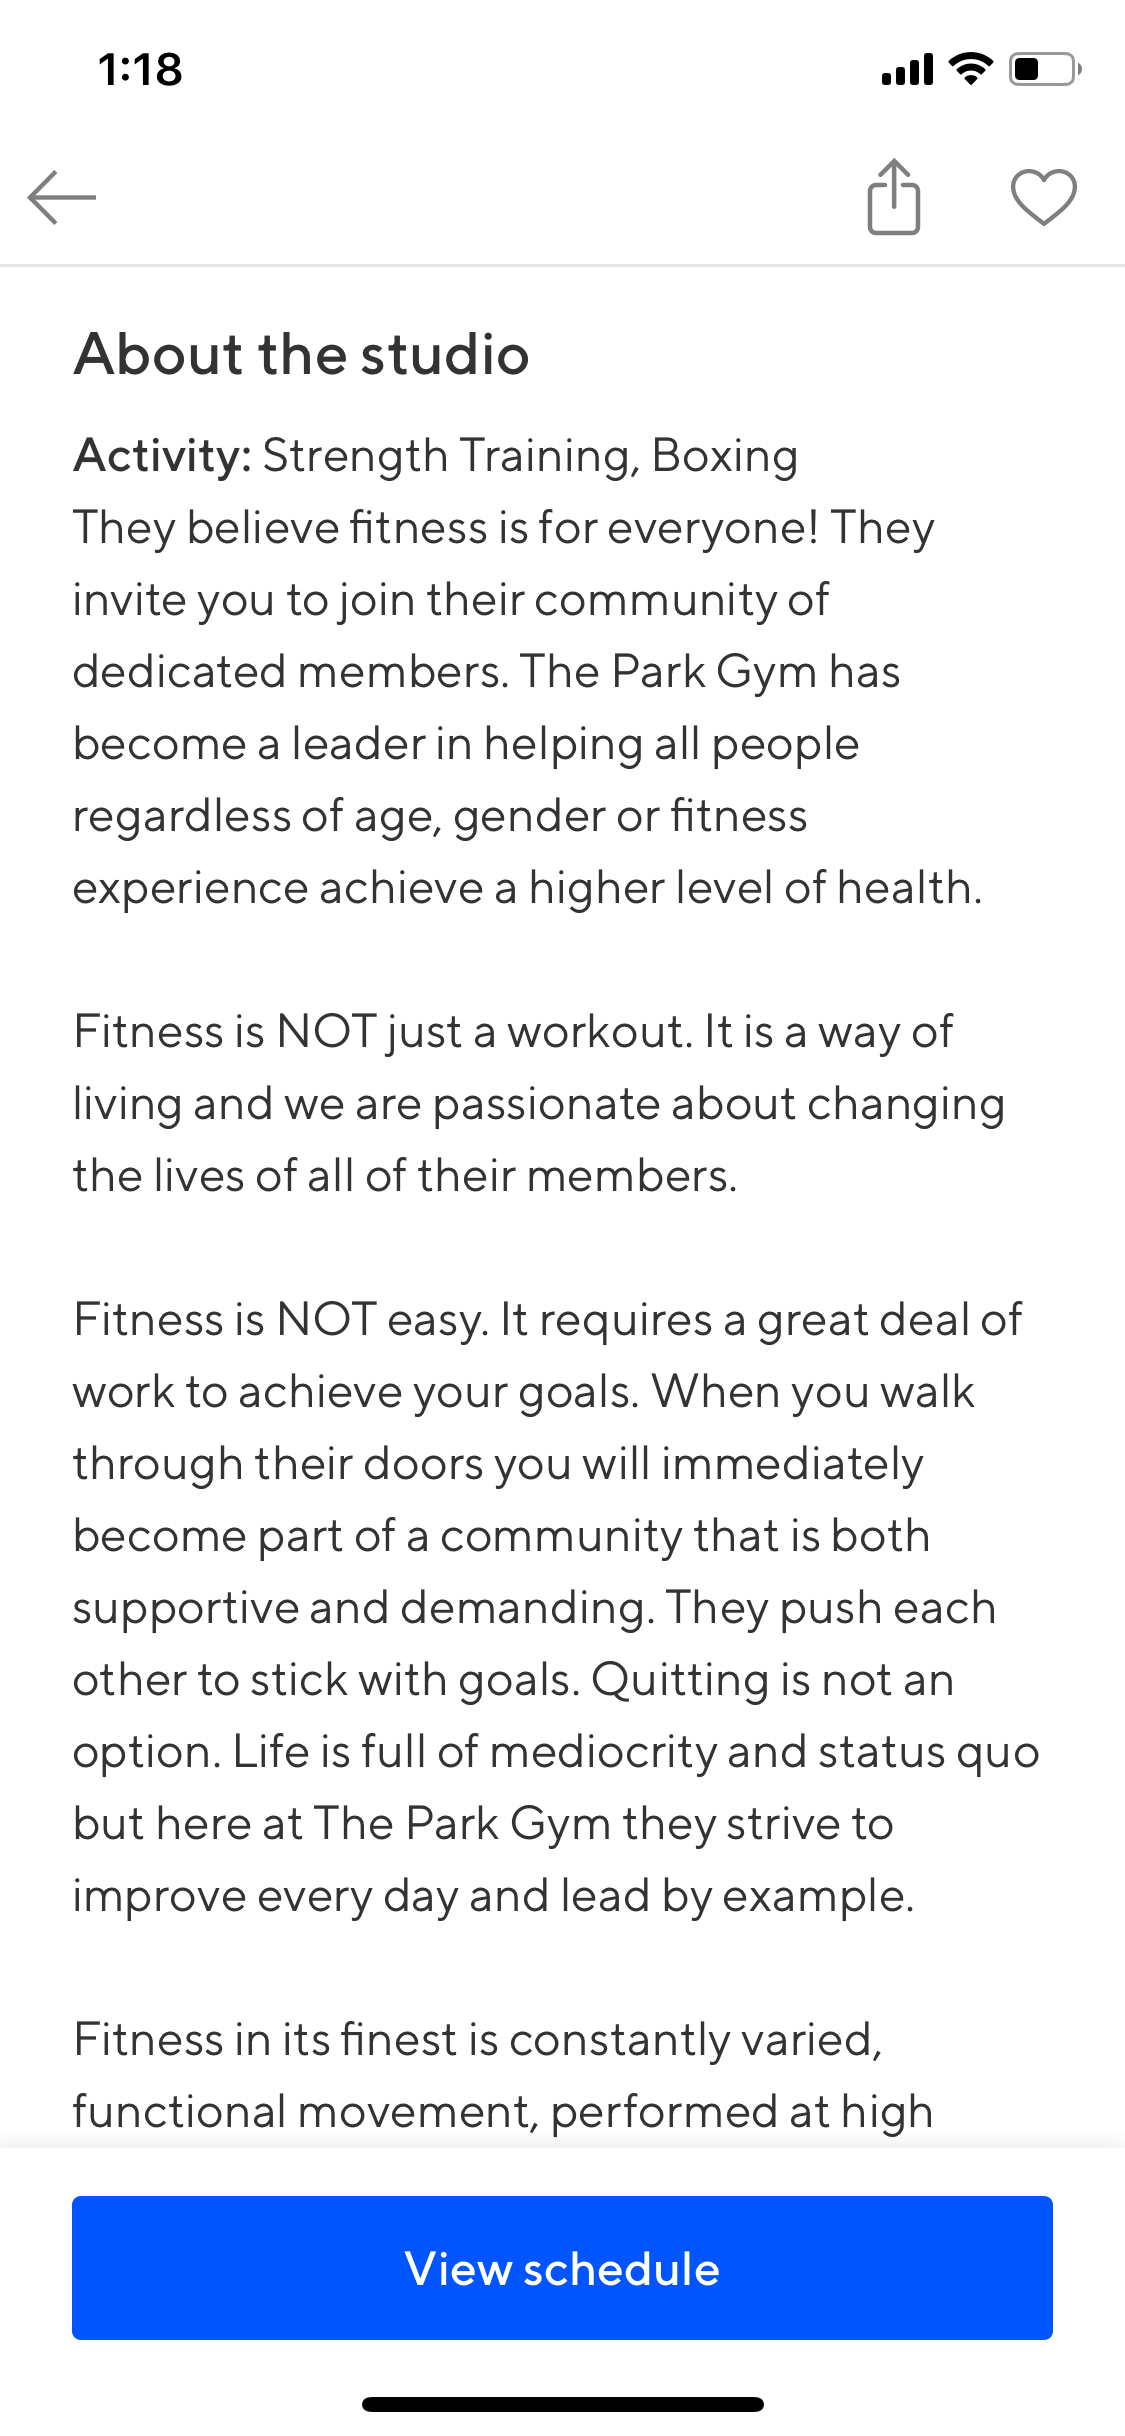Buttons: (57, 2180, 1064, 2352), (808, 126, 973, 253), (2, 124, 127, 258), (1005, 124, 1088, 253)
